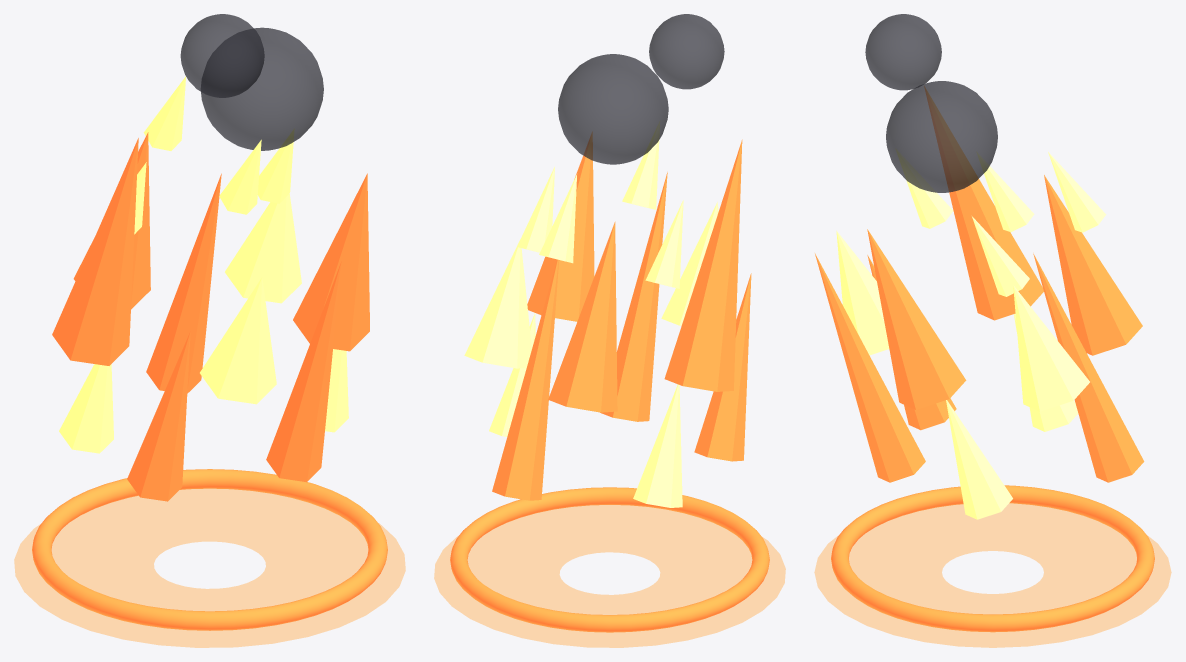
The model's file is vfx_status_burn.glb.
3 views of the same model, side by side, from view 1: azimuth 30°, elevation 25°; view 2: azimuth 150°, elevation 25°; view 3: azimuth 270°, elevation 25° (orthographic). The views are drawn at different scales.
Parts seen in each view (by area): view 1: burn_scorch, burn_ring, burn_smoke, burn_flame5, burn_flame2, burn_flame1, burn_flame8, burn_smoke_b, burn_flame3, burn_flame4, burn_flame9, burn_flame6 (+5 smaller); view 2: burn_scorch, burn_ring, burn_smoke, burn_flame5, burn_flame7, burn_flame8, burn_flame2, burn_flame1, burn_flame9, burn_smoke_b, burn_flame4, burn_flame6 (+6 smaller); view 3: burn_scorch, burn_ring, burn_smoke, burn_flame5, burn_flame1, burn_flame7, burn_flame2, burn_flame8, burn_flame9, burn_smoke_b, burn_flame0, burn_flame3 (+6 smaller).
Boxes of the visible parts, x1,y1,x2,y2 form: burn_scorch: (14, 488, 405, 647); burn_ring: (32, 469, 387, 630); burn_smoke: (201, 27, 323, 150); burn_flame5: (52, 138, 138, 365); burn_flame2: (266, 261, 341, 482); burn_flame1: (293, 173, 369, 351); burn_flame8: (146, 173, 221, 393); burn_smoke_b: (180, 14, 264, 97); burn_flame3: (200, 277, 276, 404); burn_flame4: (127, 331, 190, 501); burn_flame9: (225, 194, 301, 303); burn_flame6: (59, 364, 113, 453); burn_scorch: (434, 505, 785, 647); burn_ring: (450, 487, 769, 632); burn_smoke: (558, 54, 668, 164); burn_flame5: (664, 139, 742, 391); burn_flame7: (548, 221, 617, 412); burn_flame8: (492, 259, 559, 500); burn_flame2: (600, 172, 667, 421); burn_flame1: (527, 132, 594, 321); burn_flame9: (464, 239, 531, 368); burn_smoke_b: (649, 14, 724, 89); burn_flame4: (694, 273, 751, 461); burn_flame6: (633, 384, 682, 507); burn_scorch: (814, 503, 1171, 647); burn_ring: (831, 485, 1154, 632); burn_smoke: (886, 81, 997, 192); burn_flame5: (924, 86, 1043, 320); burn_flame1: (867, 229, 966, 409); burn_flame7: (1044, 175, 1142, 355); burn_flame2: (815, 253, 925, 482); burn_flame8: (1033, 253, 1144, 482); burn_flame9: (1013, 285, 1089, 411); burn_smoke_b: (865, 14, 941, 90); burn_flame0: (946, 400, 1012, 519); burn_flame3: (836, 230, 889, 355).
Size of the model in its own units: 1.4 by 2.33 by 1.4.
